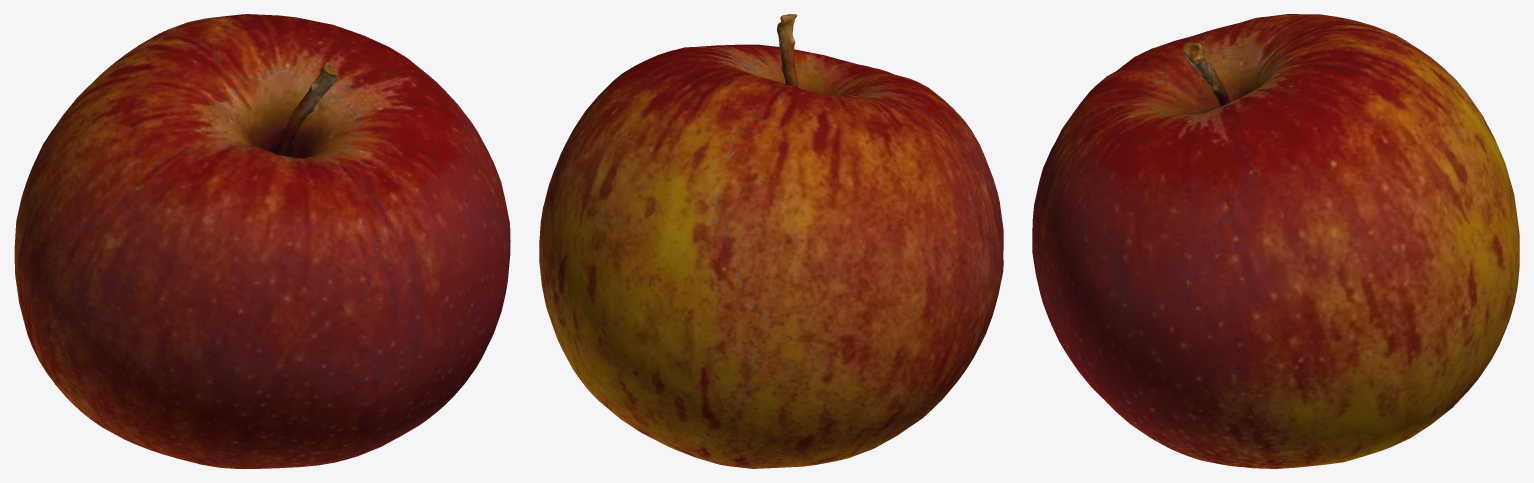
File: food_apple_01.glb
3 views of the same model, side by side, from view 1: azimuth 30°, elevation 25°; view 2: azimuth 150°, elevation 25°; view 3: azimuth 270°, elevation 25° (orthographic). The views are drawn at different scales.
Visible parts, largest first — view 1: food_apple_01; view 2: food_apple_01; view 3: food_apple_01.
Part boxes in pixels (<box>): food_apple_01: <box>14,14,510,468</box>; food_apple_01: <box>539,14,1003,468</box>; food_apple_01: <box>1032,14,1519,468</box>.
Size of the model in its own units: 0.0976 by 0.0854 by 0.0959.
1 material, 1 textured.
